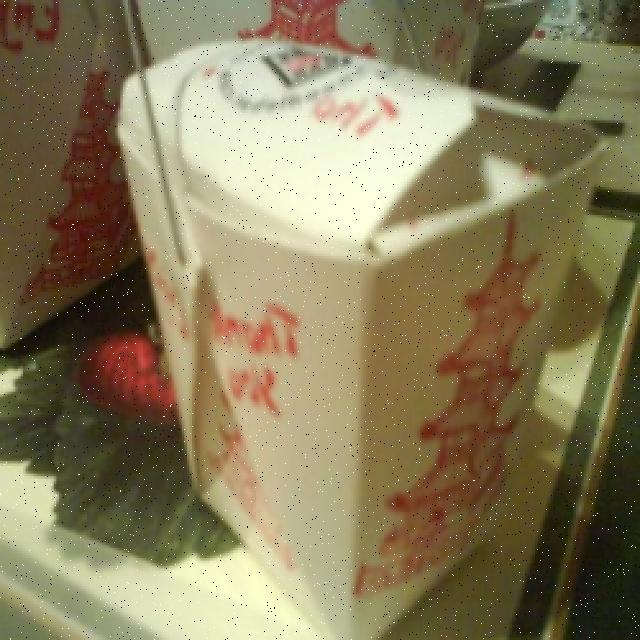box: (134, 72, 580, 603)
